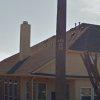Chimney: (15, 14, 44, 59)
